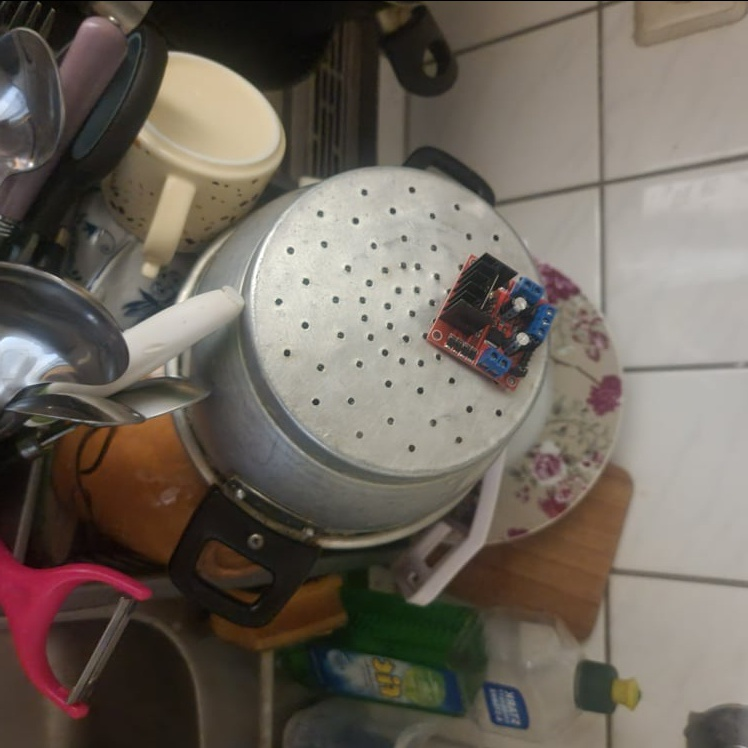MOTOR: (422, 248, 557, 391)
